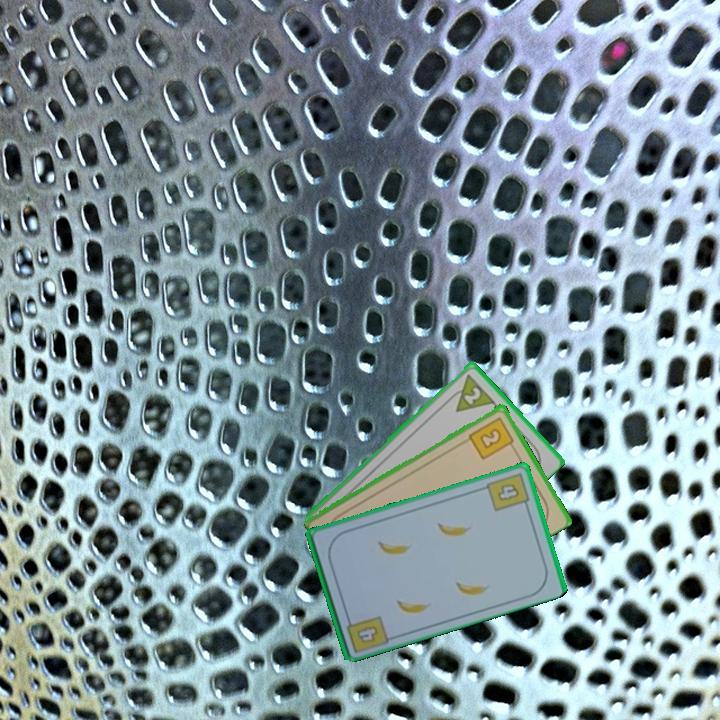2b: (465, 413, 518, 462)
2p: (443, 370, 497, 415)
4b: (483, 469, 532, 514), (356, 624, 379, 643)
